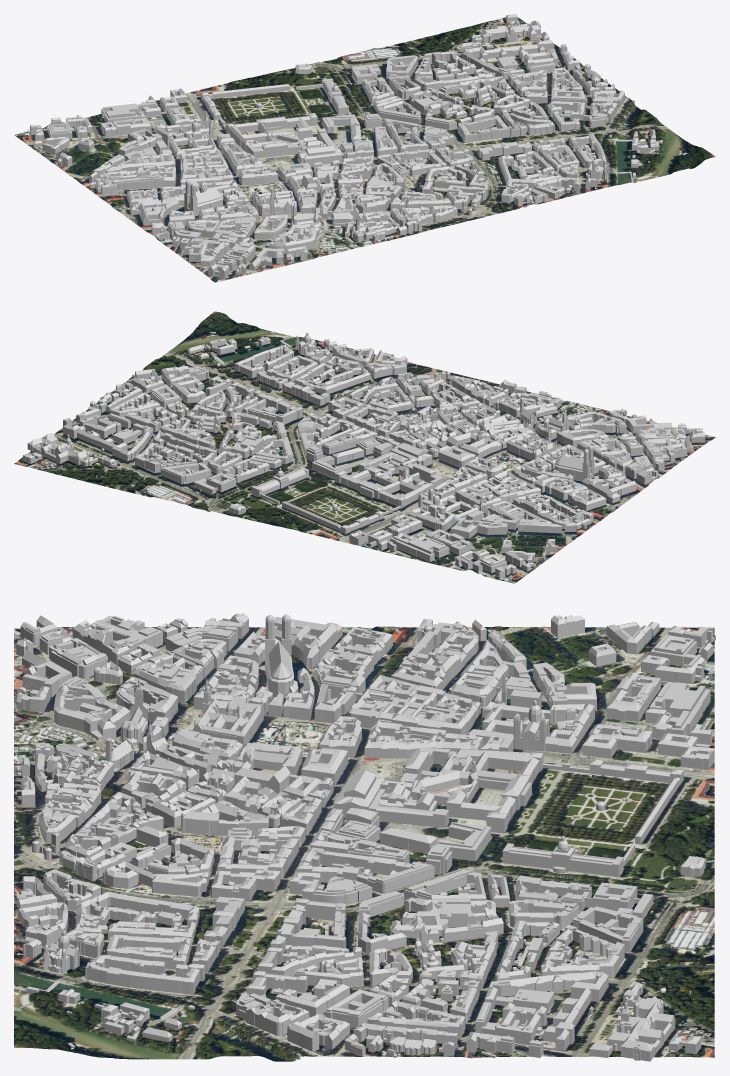
Rendered from asset.glb.
3 renders of one model, top to bottom at view 1: azimuth 30°, elevation 25°; view 2: azimuth 150°, elevation 25°; view 3: azimuth 270°, elevation 25°, orthographic. The views are drawn at different scales.
Visible parts, largest first — view 1: 2, 2025_Muenchen_DGM5m_geschnitten; view 2: 2, 2025_Muenchen_DGM5m_geschnitten; view 3: 2, 2025_Muenchen_DGM5m_geschnitten.
Boxes of the visible parts, x1,y1,x2,y2 form: 2: [24, 14, 687, 278]; 2025_Muenchen_DGM5m_geschnitten: [14, 17, 715, 282]; 2: [23, 332, 704, 580]; 2025_Muenchen_DGM5m_geschnitten: [14, 311, 715, 583]; 2: [16, 612, 715, 1061]; 2025_Muenchen_DGM5m_geschnitten: [14, 626, 714, 1061].
Size of the model in its own units: 1590 by 111 by 1097.
Materials: 2 (1 with a texture image).
